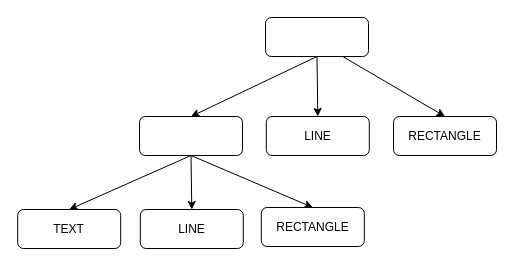
Image size: 514x266. Some labels were removed from this diagram. The shapes that lost their labels are listed below. From the top down, each one's box as (x1, y1, x2, y2) in pixels, then its label:
(264, 16, 368, 56): PICTURE2
(138, 116, 242, 156): PICTURE1
